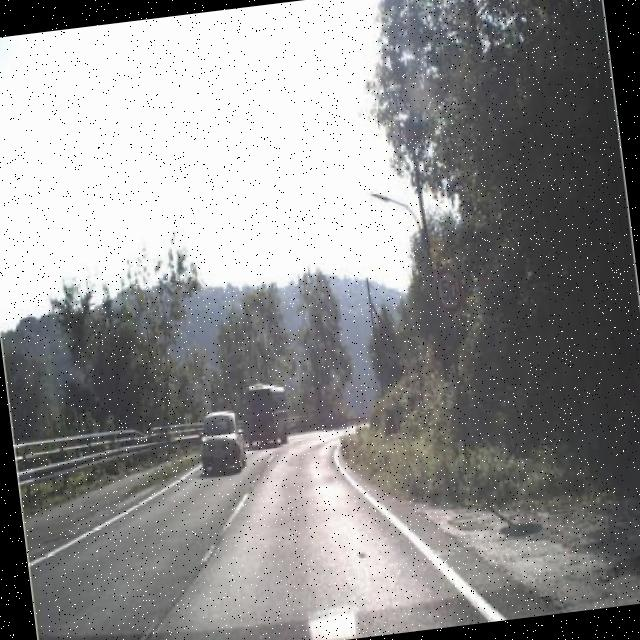Ograniczenie predkosci do 50: (428, 260, 468, 316)
